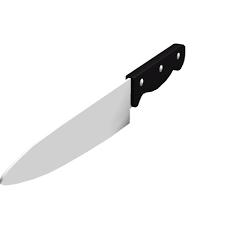Knife: (0, 42, 185, 185)
